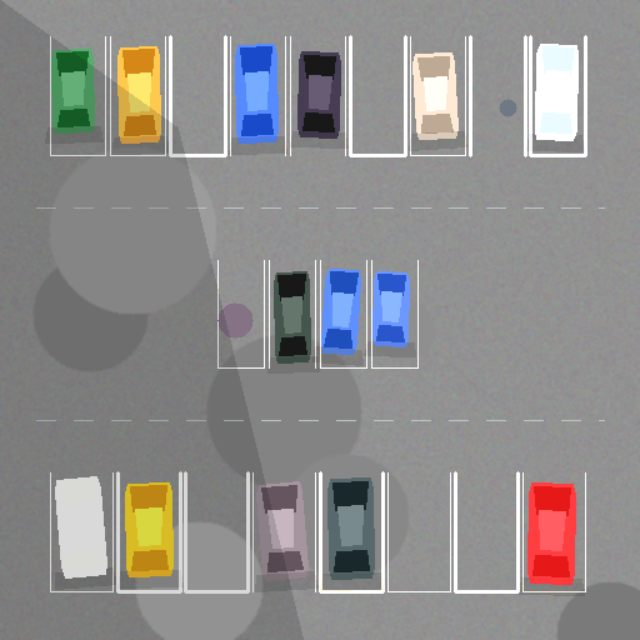space-empty: (185, 473, 248, 591), (455, 473, 518, 591), (388, 473, 450, 591), (170, 36, 225, 155), (350, 36, 405, 155), (470, 36, 525, 155), (218, 260, 264, 367)
space-occupied: (252, 473, 315, 591), (522, 473, 585, 591), (50, 473, 112, 591), (118, 473, 180, 591), (320, 473, 382, 591), (50, 36, 105, 155), (110, 36, 165, 155), (230, 36, 285, 155), (290, 36, 345, 155), (410, 36, 465, 155), (530, 36, 585, 155), (371, 260, 418, 367), (269, 260, 315, 367), (320, 260, 366, 367)
